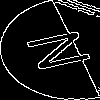N: (25, 25, 100, 74)
